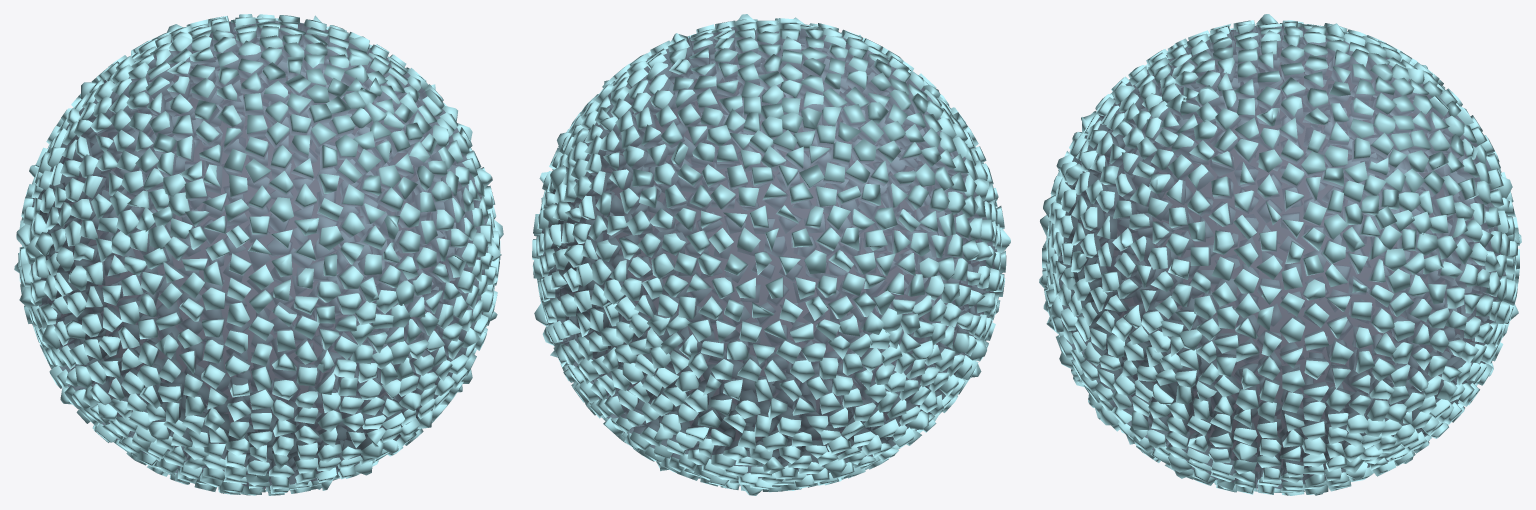
File: NanoParticleUnity.fbx
3 views of the same model, side by side, from view 1: azimuth 30°, elevation 25°; view 2: azimuth 150°, elevation 25°; view 3: azimuth 270°, elevation 25° (orthographic).
Parts seen in each view (by area): view 1: pasted__MASH1_ReproMesh, pSphere1; view 2: pasted__MASH1_ReproMesh, pSphere1; view 3: pasted__MASH1_ReproMesh, pSphere1.
Part boxes in pixels (x1,y1,x2,y2): pasted__MASH1_ReproMesh: [14, 14, 503, 495]; pSphere1: [30, 20, 490, 488]; pasted__MASH1_ReproMesh: [532, 14, 1010, 495]; pSphere1: [541, 26, 997, 478]; pasted__MASH1_ReproMesh: [1039, 14, 1521, 495]; pSphere1: [1054, 25, 1507, 489].
Size of the model in its own units: 5.22 by 5.18 by 5.23.
